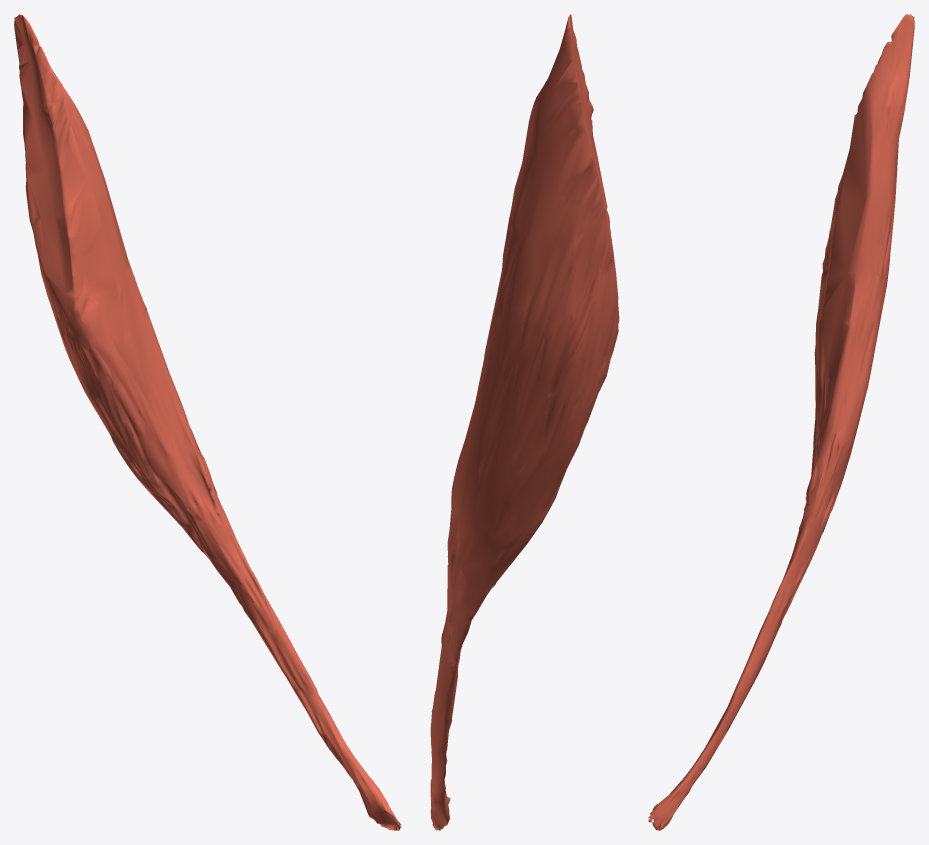
Rendered from adductor-pollicis-longus.glb.
3 renders of one model, left to right at view 1: azimuth 30°, elevation 25°; view 2: azimuth 150°, elevation 25°; view 3: azimuth 270°, elevation 25°, orthographic. The views are drawn at different scales.
Visible parts, largest first — view 1: Adductor pollicis longus.l; view 2: Adductor pollicis longus.l; view 3: Adductor pollicis longus.l.
Boxes of the visible parts, <box> form: Adductor pollicis longus.l: <box>14,14,401,830</box>; Adductor pollicis longus.l: <box>430,14,619,830</box>; Adductor pollicis longus.l: <box>648,14,914,830</box>.
Bounding box in the file's own units: 0.0641 × 0.1879 × 0.0638.
